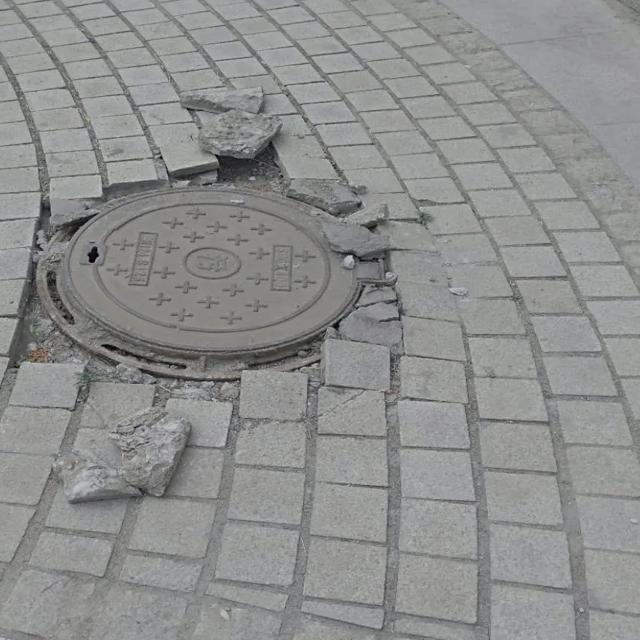circle: (0, 129, 451, 424)
